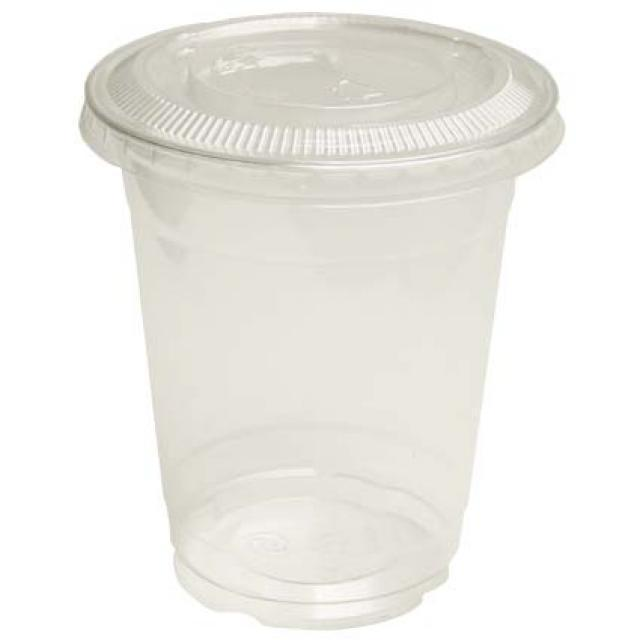cup: (60, 0, 588, 637)
